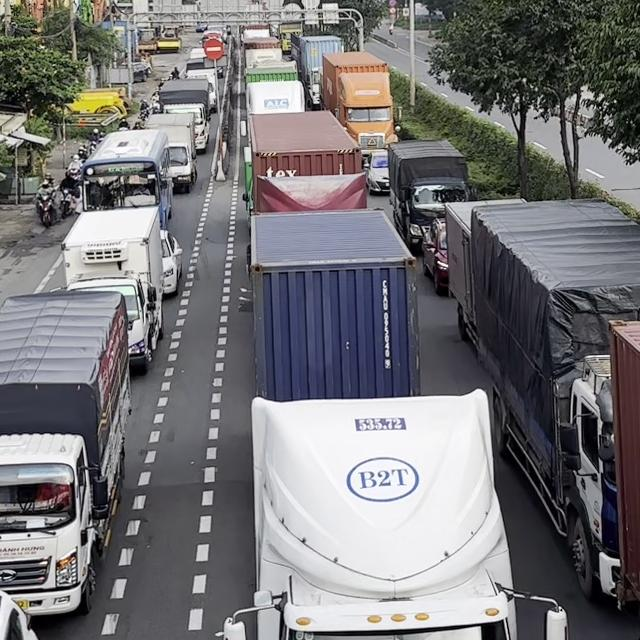bus: (75, 128, 174, 230)
car: (420, 216, 449, 295), (0, 584, 39, 639), (157, 230, 183, 299), (365, 149, 390, 193)
motorcycle: (35, 187, 59, 227), (58, 186, 77, 218), (216, 65, 224, 78)
truck: (217, 212, 569, 639), (444, 195, 639, 614), (0, 290, 132, 618), (562, 317, 639, 620), (60, 205, 163, 372), (242, 109, 367, 216), (443, 197, 527, 345), (387, 138, 473, 251), (319, 50, 402, 160), (139, 112, 198, 193), (289, 33, 343, 109), (159, 77, 210, 154), (244, 59, 304, 117), (184, 66, 219, 112)
